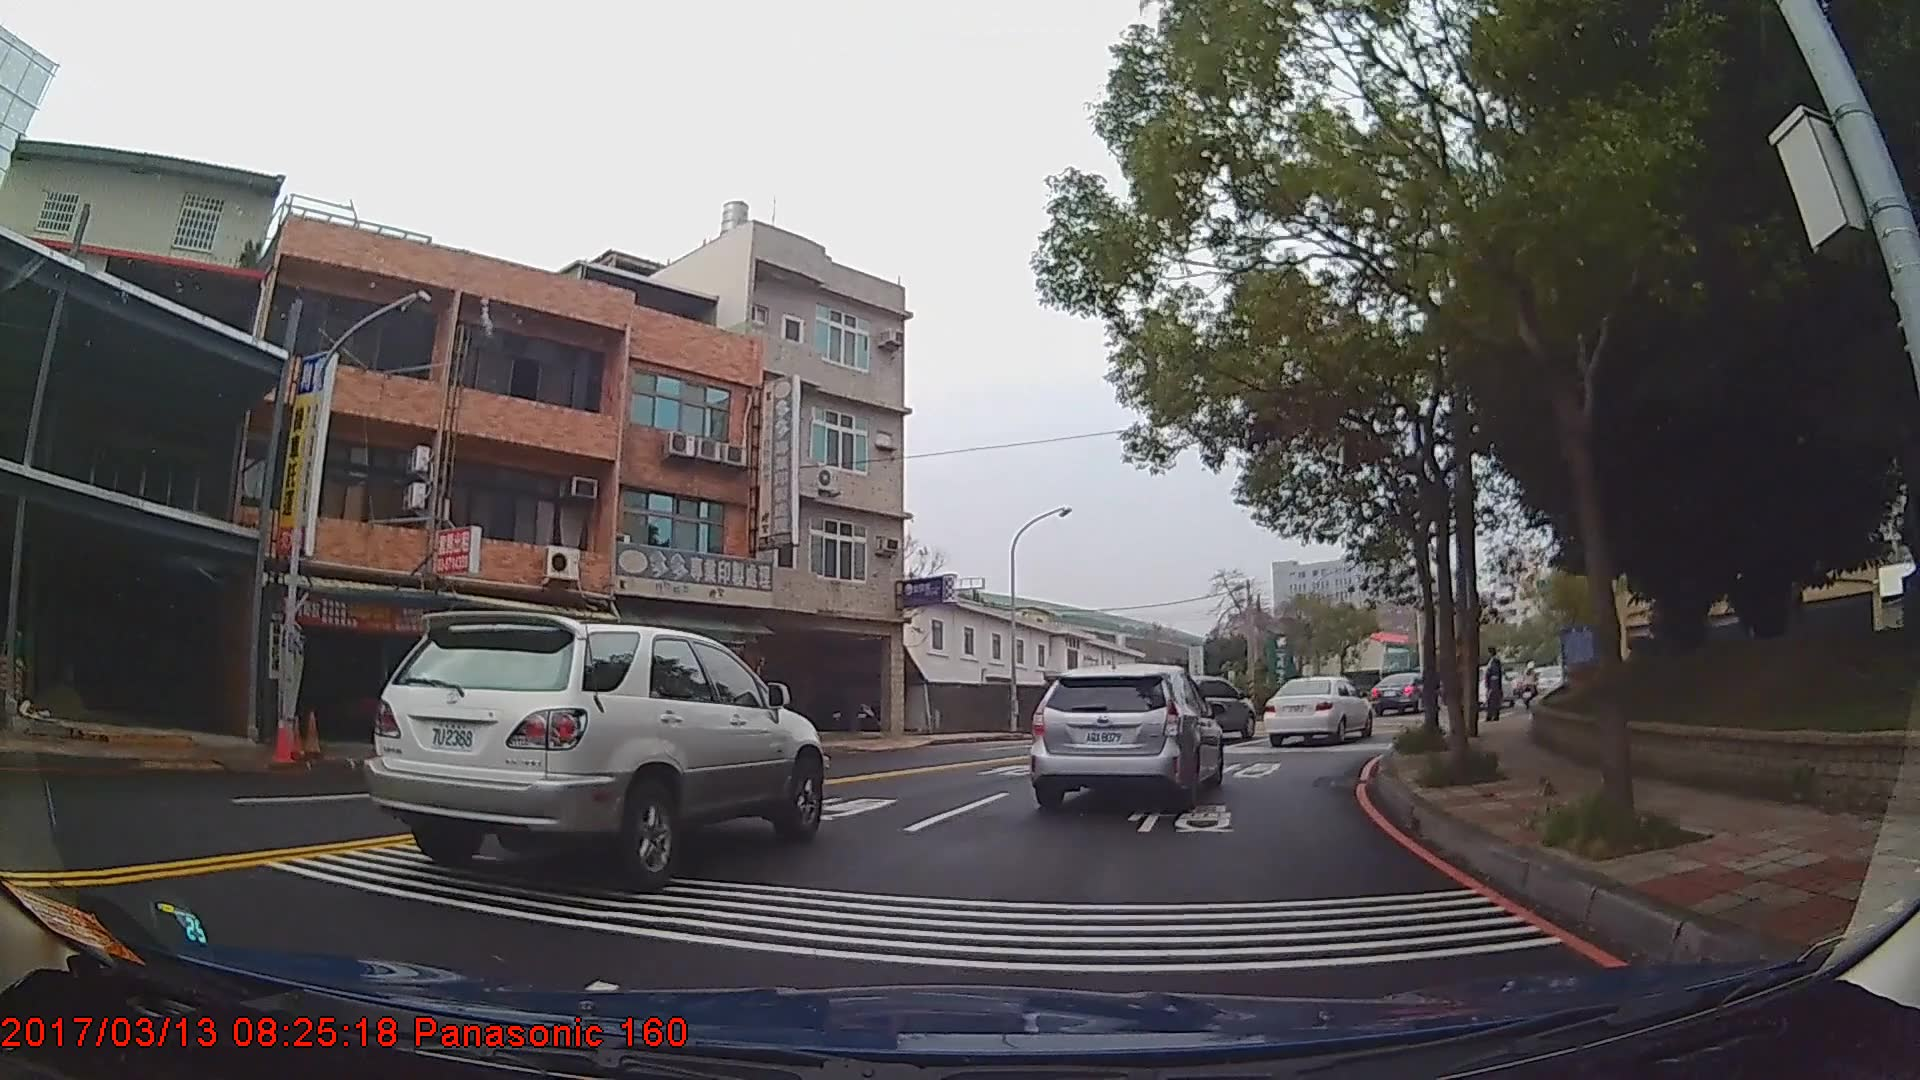vehicle: (361, 608, 824, 894), (1025, 661, 1221, 814), (1257, 673, 1371, 744), (1160, 673, 1257, 742), (1367, 667, 1436, 715)
